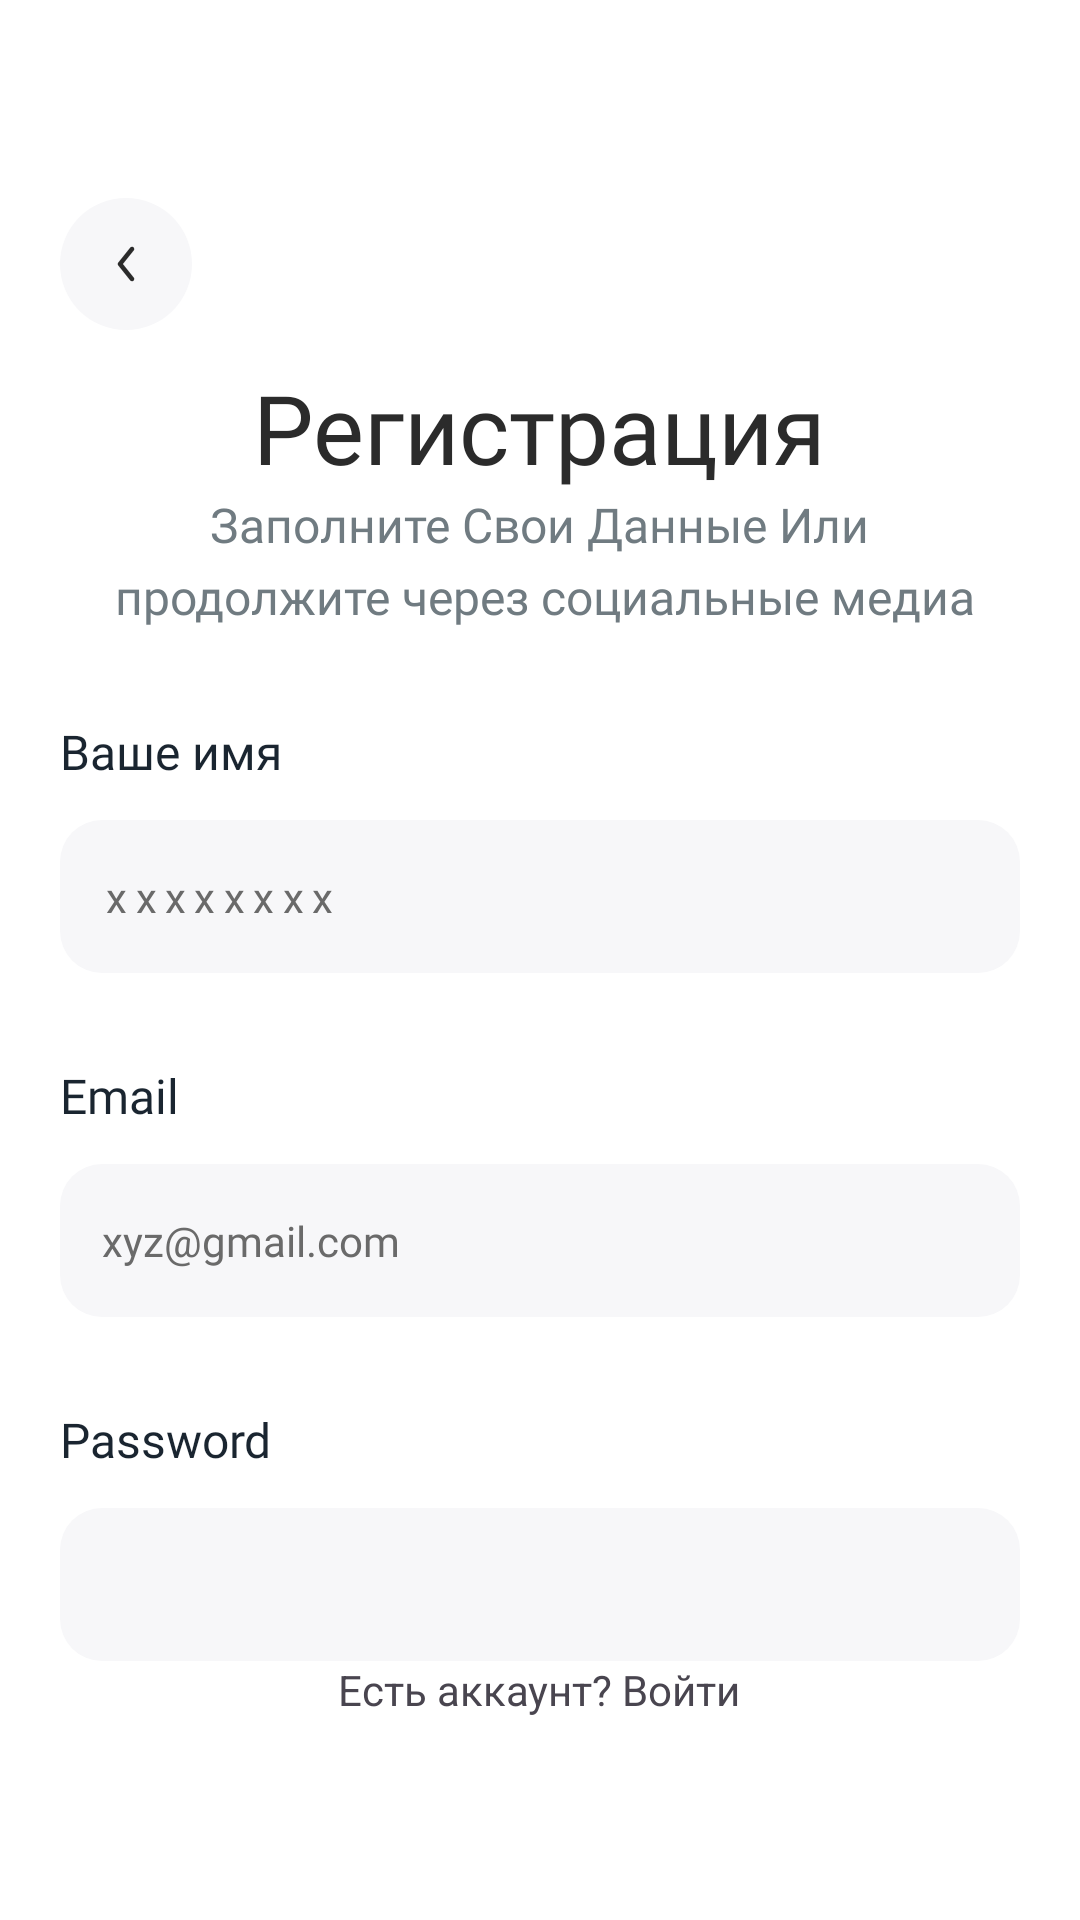

Icons on this 1080×1920 Android screen, each with the point to tap as (x=x, y=y):
arrow left: (x=126, y=264)
